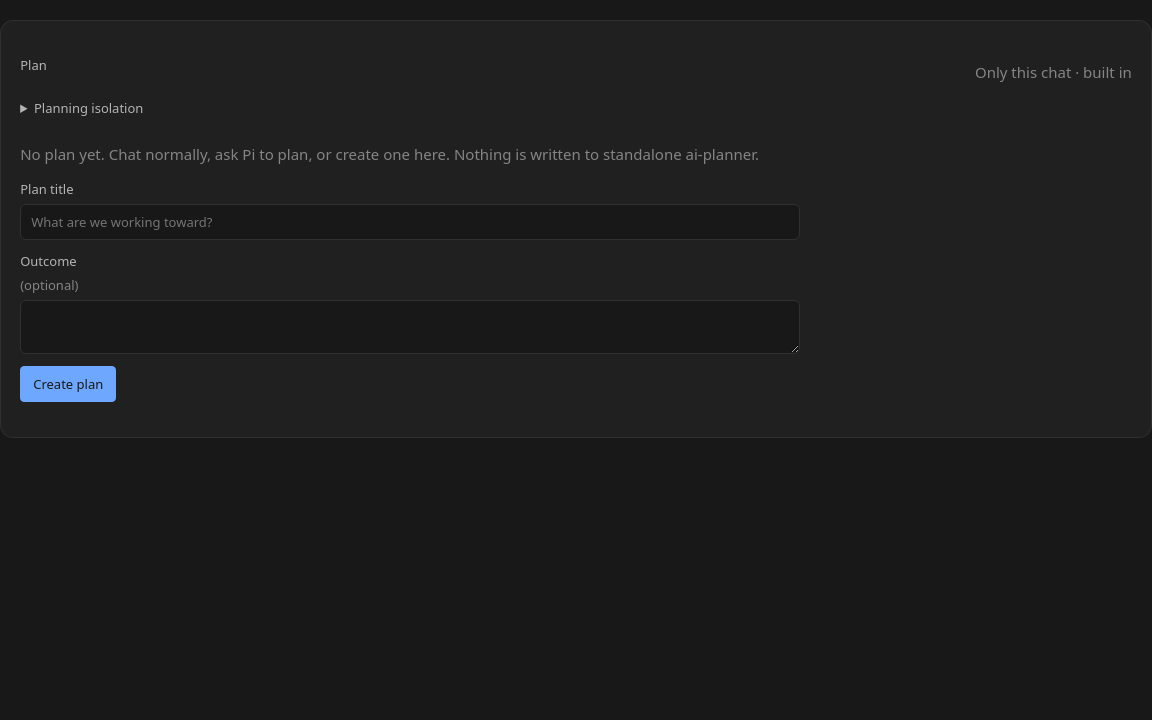
Test: chat-owned planning › does not create a plan simply by opening Overview
Check: the text "No plan yet" is shown, box [20,144,759,164]
Type "Improve search" into the field labelled "Plan title" at (410, 222), box [20,204,800,240]
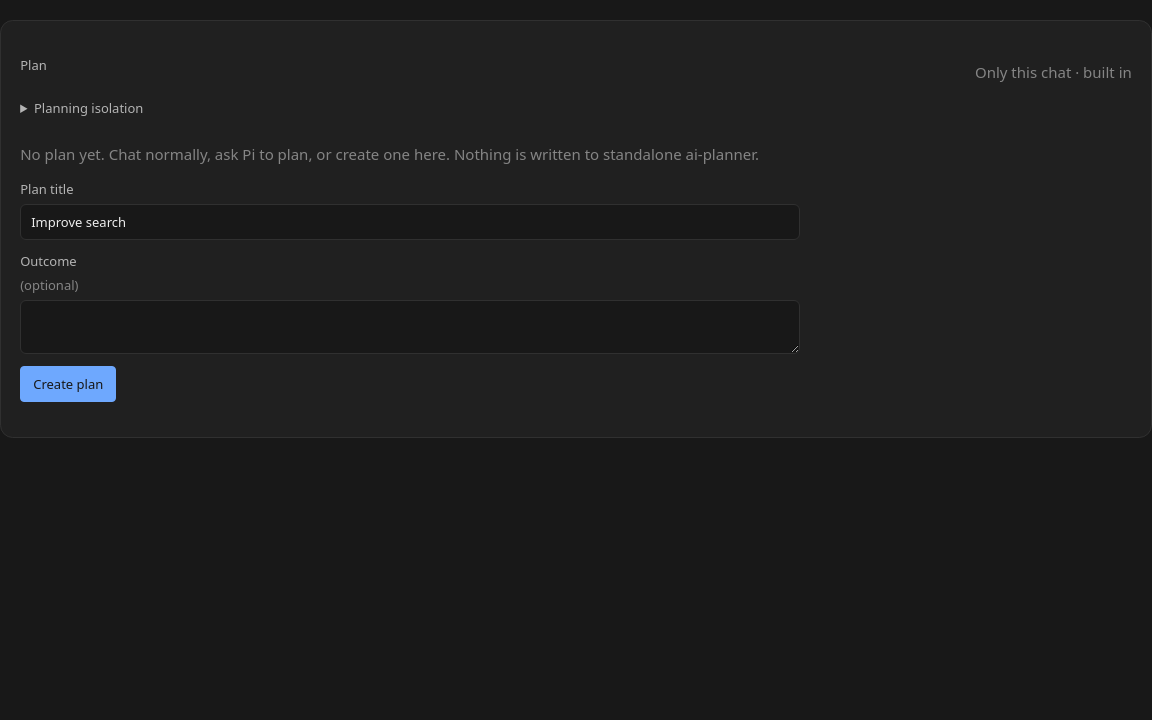
Click the button "Create plan" at (68, 384), box [20,366,116,402]
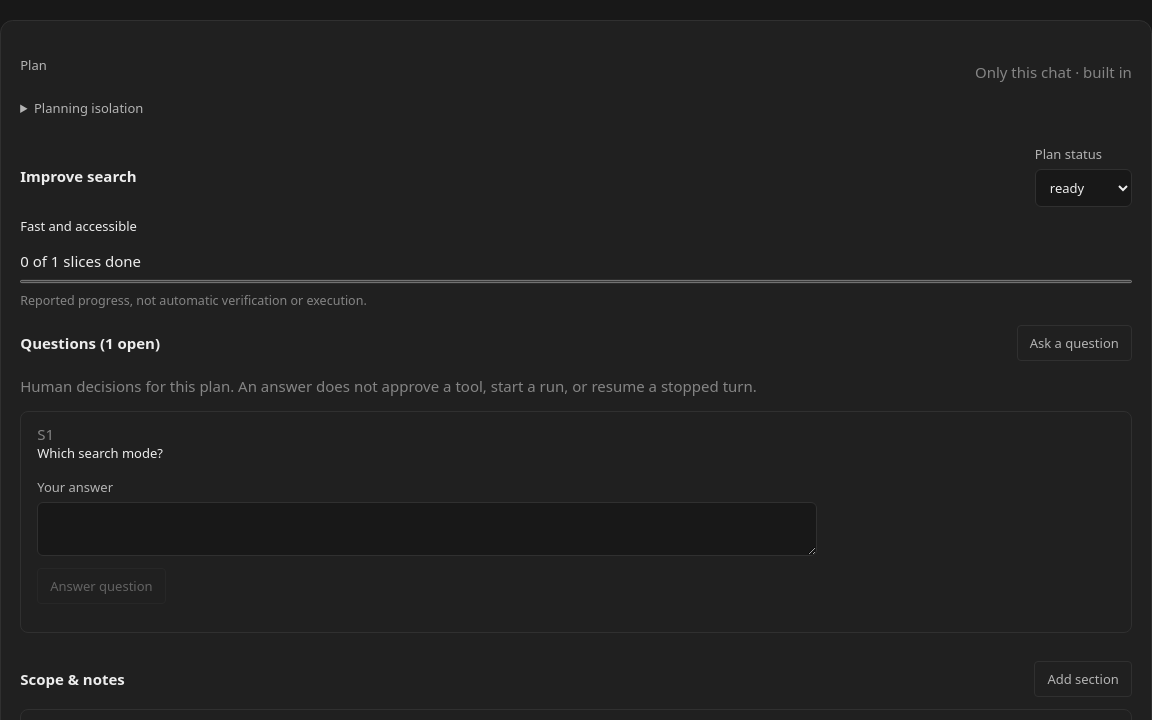
Check: the heading "Improve search" is shown, box [20,166,136,186]
Check: the progress indicator named "Reported slice progress" holds "0", box [20,278,1132,285]
